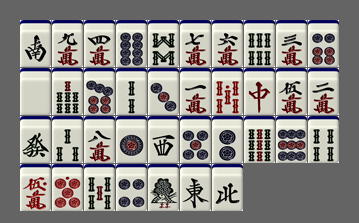0m: (20, 164, 51, 211)
0p: (52, 164, 83, 211)
0s: (212, 68, 243, 115)
1m: (180, 68, 211, 115)
1p: (116, 116, 147, 163)
1s: (148, 164, 179, 211)
1z: (180, 164, 211, 211)
2m: (308, 68, 339, 115)
2p: (212, 116, 243, 163)
2s: (116, 68, 147, 115)
2z: (20, 20, 51, 67)
3m: (276, 20, 307, 67)
3p: (148, 68, 179, 115)
3s: (52, 116, 83, 163)
3z: (148, 116, 179, 163)
4m: (84, 20, 115, 67)
4p: (116, 164, 147, 211)
4s: (308, 116, 339, 163)
4z: (212, 164, 243, 211)
5m: (276, 68, 307, 115)
5p: (180, 116, 211, 163)
5s: (84, 164, 115, 211)
5z: (20, 68, 51, 115)
6m: (212, 20, 243, 67)
6p: (308, 20, 339, 67)
6s: (244, 20, 275, 67)
6z: (20, 116, 51, 163)
7m: (180, 20, 211, 67)
7p: (84, 68, 115, 115)
7s: (52, 68, 83, 115)
7z: (244, 68, 275, 115)
8m: (84, 116, 115, 163)
8p: (116, 20, 147, 67)
8s: (148, 20, 179, 67)
9m: (52, 20, 83, 67)
9p: (276, 116, 307, 163)
9s: (244, 116, 275, 163)
